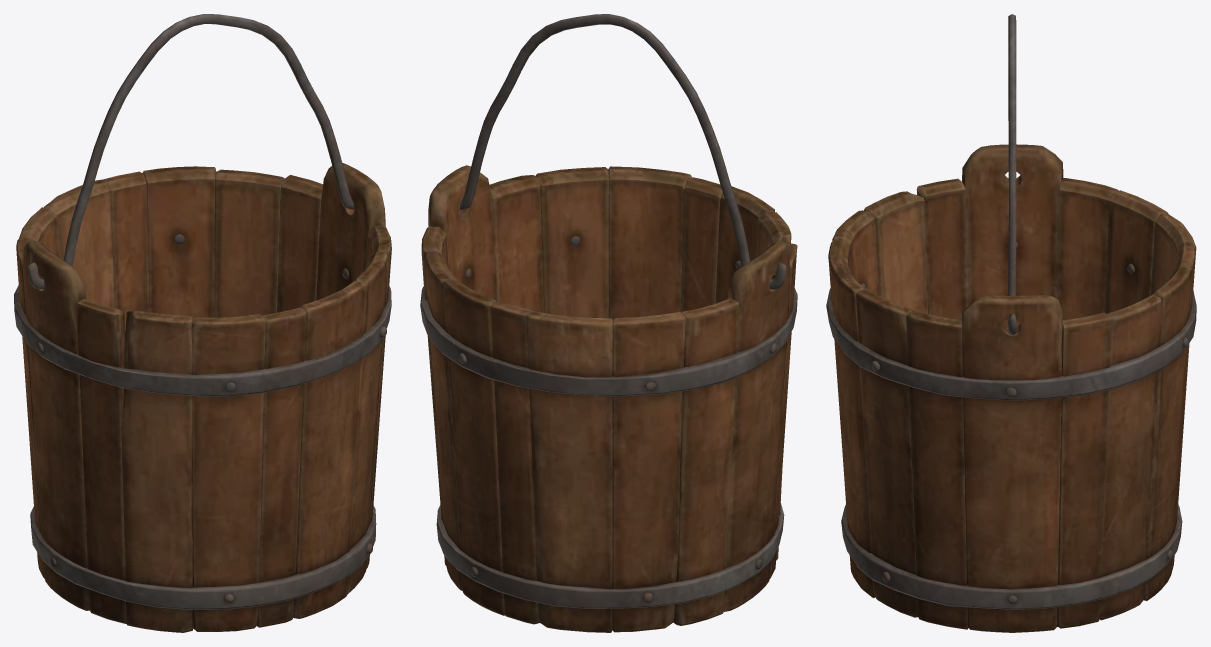
The model's file is wooden_bucket_01.glb.
3 renders of one model, left to right at view 1: azimuth 30°, elevation 25°; view 2: azimuth 150°, elevation 25°; view 3: azimuth 270°, elevation 25°, orthographic.
Parts seen in each view (by area): view 1: wooden_bucket_01; view 2: wooden_bucket_01; view 3: wooden_bucket_01.
Boxes of the visible parts, x1=… form: wooden_bucket_01: x1=14, y1=14, x2=391, y2=632; wooden_bucket_01: x1=420, y1=14, x2=797, y2=632; wooden_bucket_01: x1=826, y1=14, x2=1196, y2=632.
Size of the model in its own units: 0.367 by 0.5499 by 0.3422.
1 material, 1 textured.
